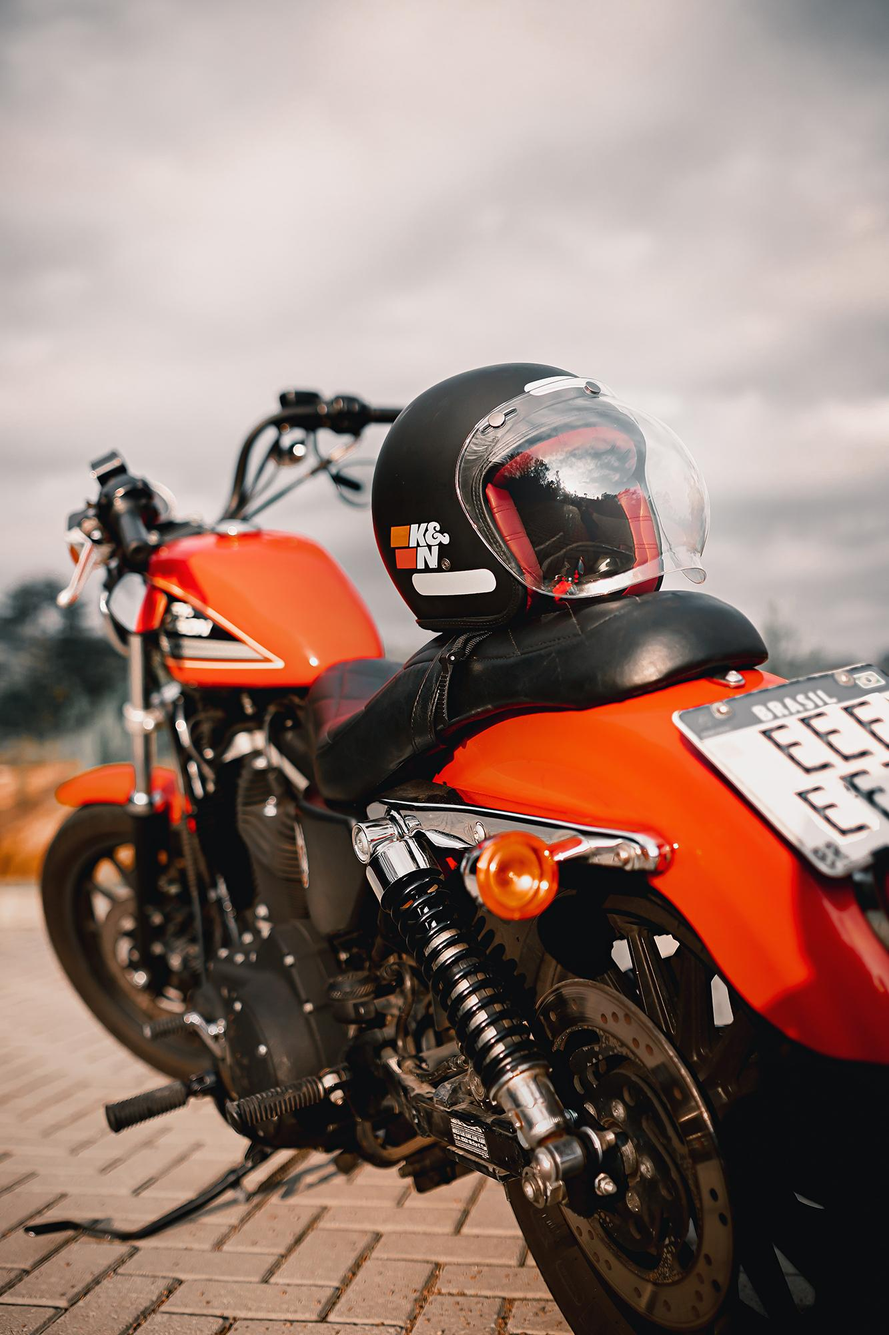helmet: (370, 360, 712, 633)
